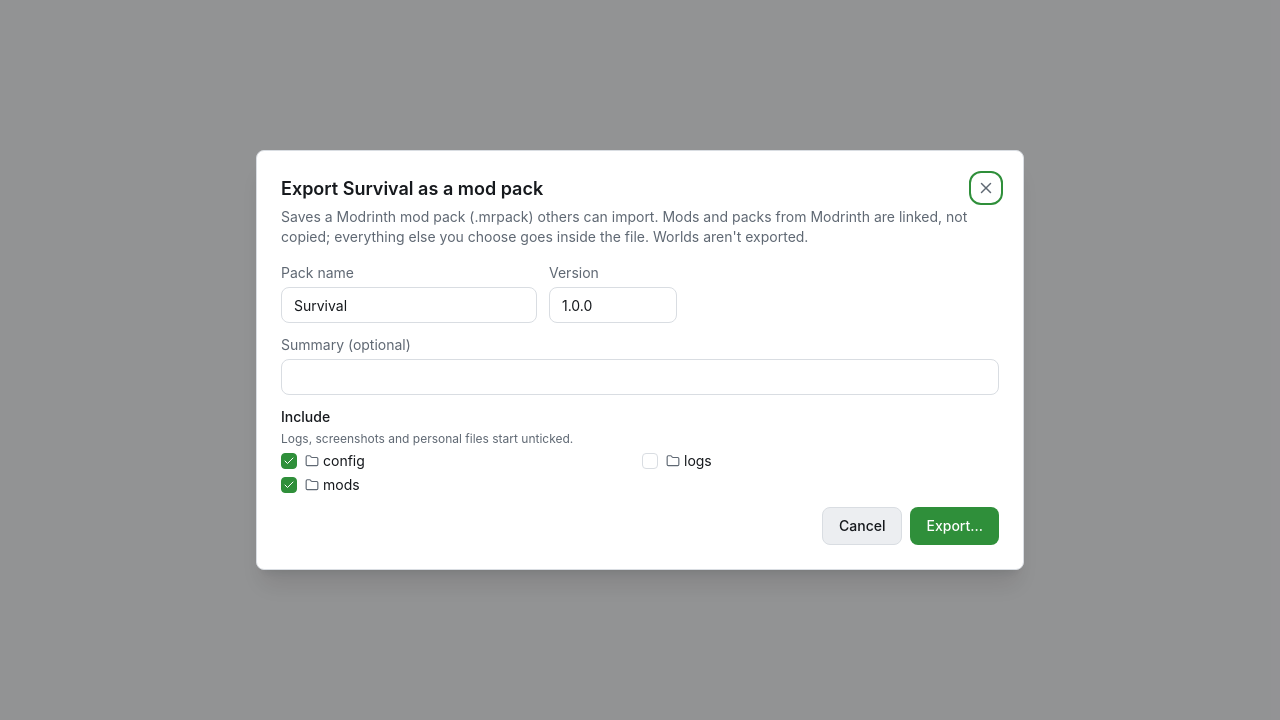
it: ExportModpackDialog › exports the ticked entries and says what wasn't on Modrinth
Expected: the 2nd checkbox named "logs" is not checked, x1=642 y1=453 x2=658 y2=469
Click the checkbox named "config" next to "config".
click(289, 461)  # box x1=281 y1=453 x2=297 y2=469
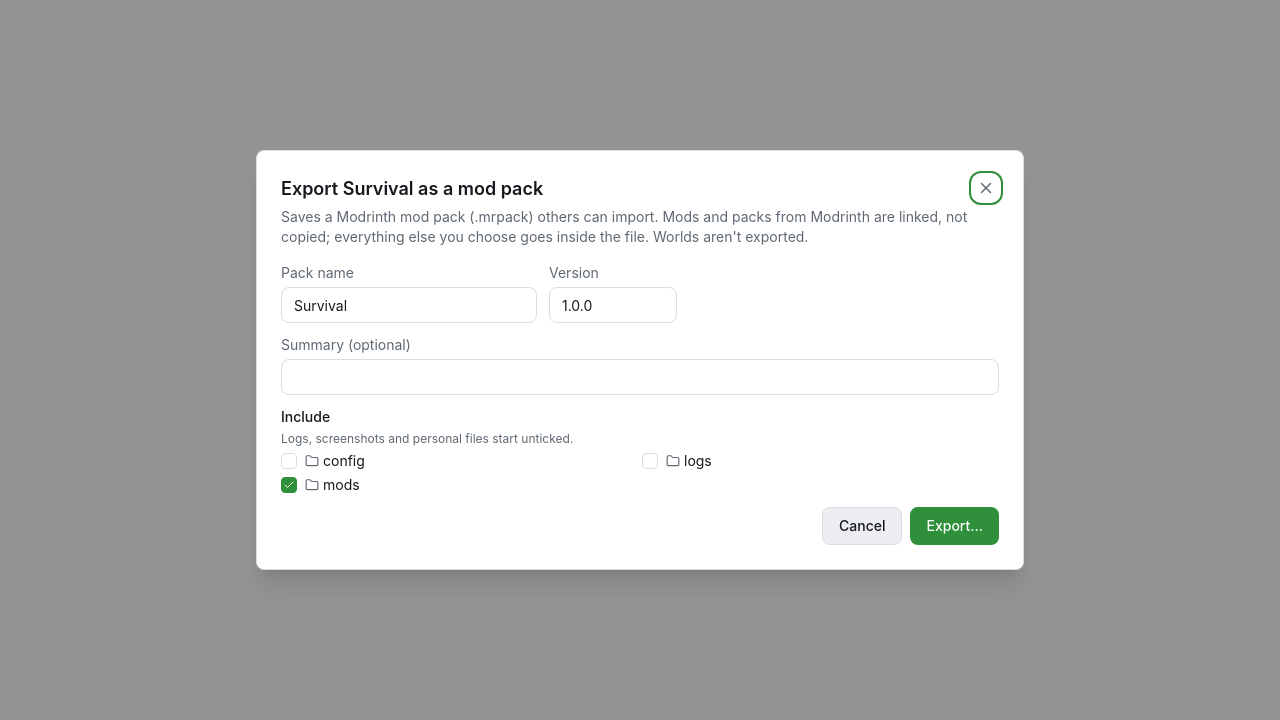
Click the button "Export…".
click(955, 526)  # box x1=910 y1=507 x2=999 y2=545
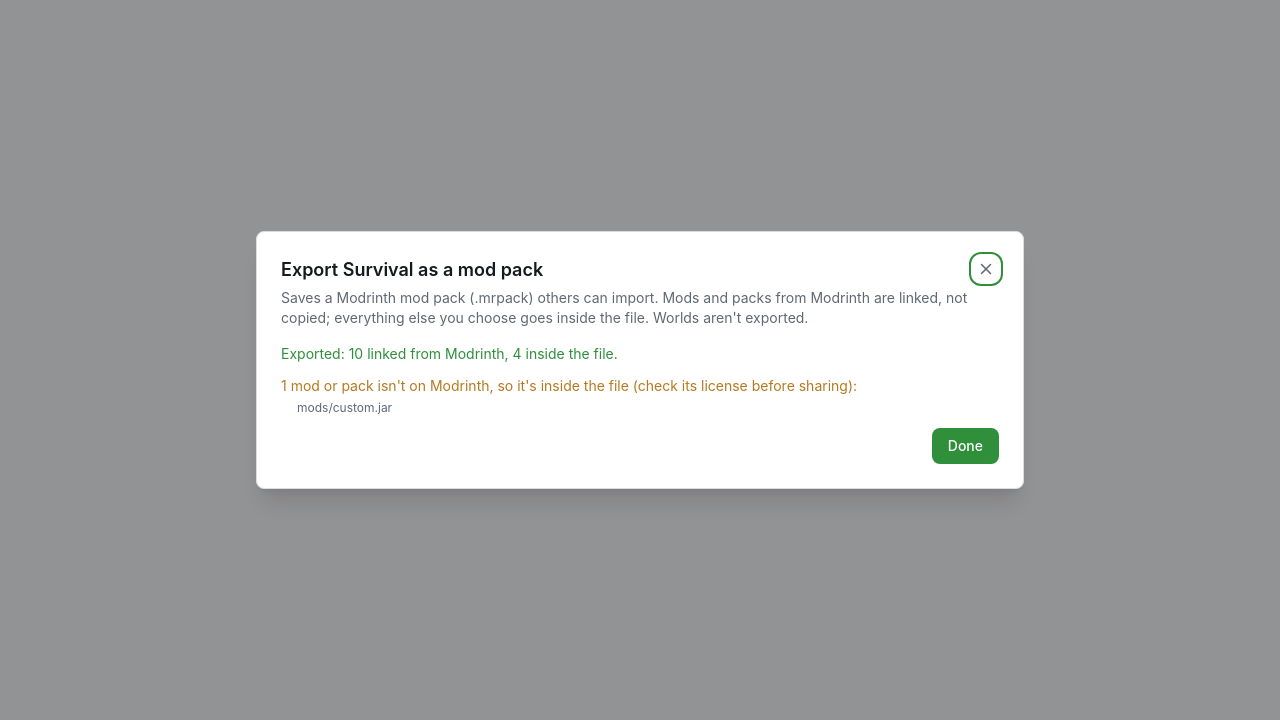
Expected: the text "Exported: 10 linked from Modrinth, 4 inside the file." is shown, x1=281 y1=345 x2=618 y2=362
Expected: the list item "mods/custom.jar" is shown, x1=297 y1=400 x2=392 y2=415
